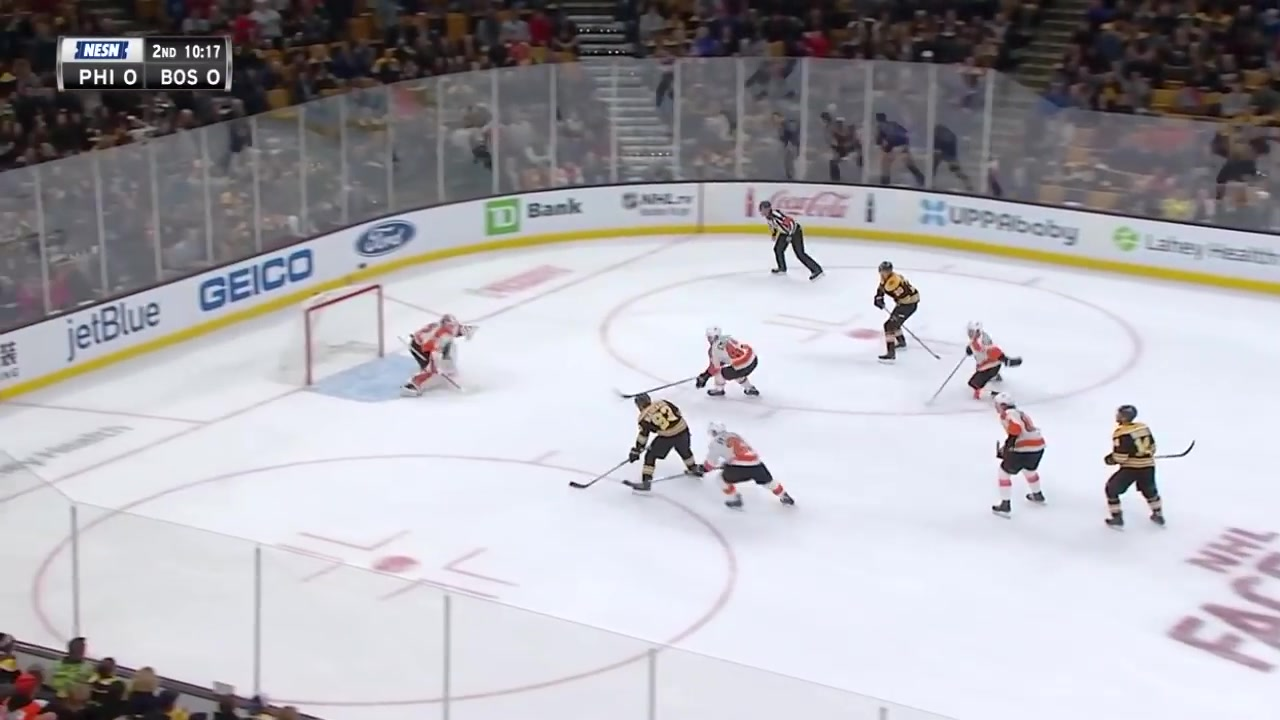Geico: (189, 245, 326, 322)
